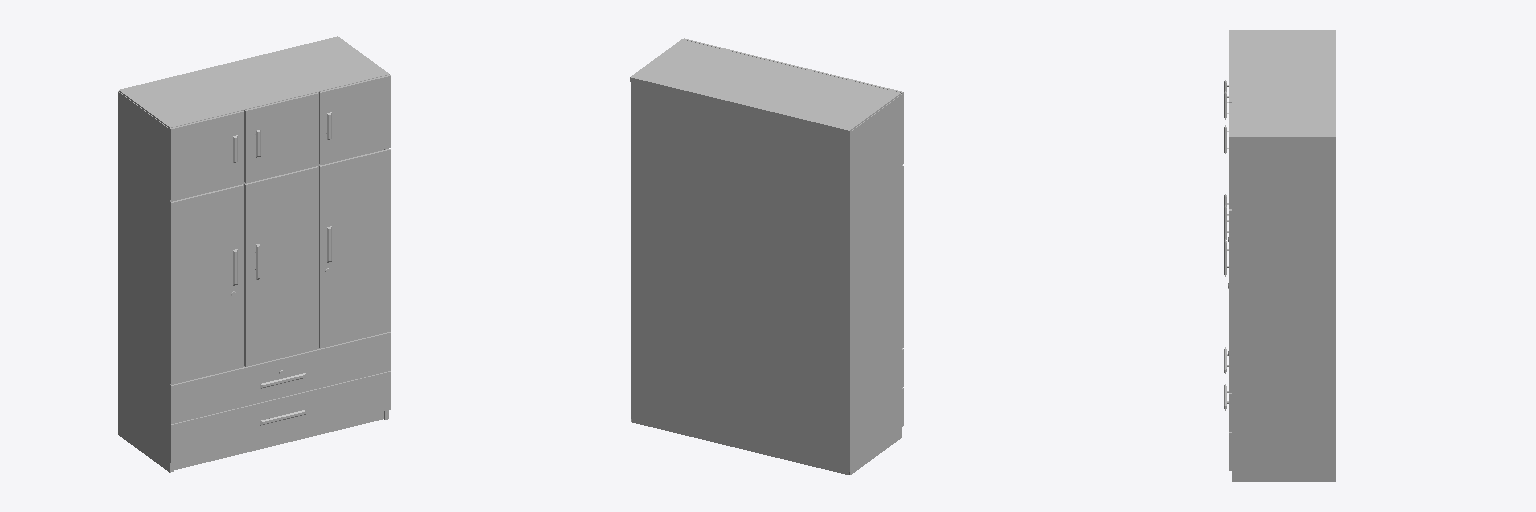
File: wardrobe.obj
3 views of the same model, side by side, from view 1: azimuth 30°, elevation 25°; view 2: azimuth 150°, elevation 25°; view 3: azimuth 270°, elevation 25° (orthographic).
Parts seen in each view (by area): view 1: Cube_Cube.001, Cube.011_Cube.030, Cube.010_Cube.029, Cube.012_Cube.031, Cube.020_Cube.039, Cube.016_Cube.035, Cube.019_Cube.038, Cube.004_Cube.024, Cube.003_Cube.023, Cube.005_Cube.025, Cube.001_Cube.012; view 2: Cube.009_Cube.011, Cube_Cube.001, Cube.020_Cube.039, Cube.021_Cube.040; view 3: Cube.002_Cube.003, Cube.020_Cube.039, Cube.012_Cube.031.
Boxes of the visible parts, box(x1,y1,x2,y2) form: Cube_Cube.001: box(118, 91, 173, 472); Cube.011_Cube.030: box(244, 166, 318, 366); Cube.010_Cube.029: box(170, 184, 243, 384); Cube.012_Cube.031: box(319, 149, 390, 348); Cube.020_Cube.039: box(119, 36, 389, 128); Cube.016_Cube.035: box(170, 332, 390, 423); Cube.019_Cube.038: box(170, 371, 390, 462); Cube.004_Cube.024: box(244, 92, 318, 182); Cube.003_Cube.023: box(170, 111, 243, 200); Cube.005_Cube.025: box(319, 75, 390, 164); Cube.001_Cube.012: box(174, 149, 383, 469); Cube.009_Cube.011: box(631, 82, 849, 471); Cube_Cube.001: box(849, 94, 901, 474); Cube.020_Cube.039: box(630, 39, 900, 135); Cube.021_Cube.040: box(632, 418, 848, 474); Cube.002_Cube.003: box(1232, 142, 1335, 481); Cube.020_Cube.039: box(1232, 30, 1335, 141); Cube.012_Cube.031: box(1229, 209, 1231, 392).
Size of the model in its own units: 48.13 by 72 by 21.16.